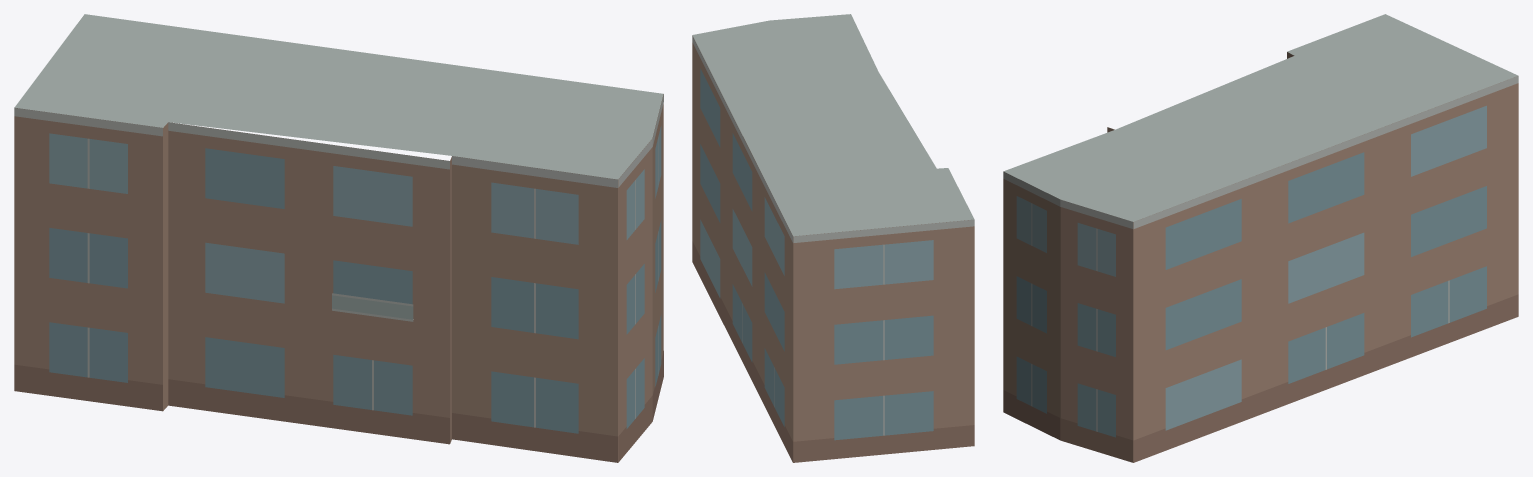
File: survey-upis-32494011.glb
The picture shows the model from 3 angles, left to right: view 1: azimuth 30°, elevation 25°; view 2: azimuth 150°, elevation 25°; view 3: azimuth 270°, elevation 25°; orthographic projection. The views are drawn at different scales.
Parts seen in each view (by area): view 1: survey-upis-32494011.tmp; view 2: survey-upis-32494011.tmp; view 3: survey-upis-32494011.tmp.
Boxes of the visible parts, x1,y1,x2,y2 form: survey-upis-32494011.tmp: [14, 14, 663, 462]; survey-upis-32494011.tmp: [692, 14, 974, 462]; survey-upis-32494011.tmp: [1003, 14, 1518, 462].
Size of the model in its own units: 14.91 by 8.05 by 15.61.
